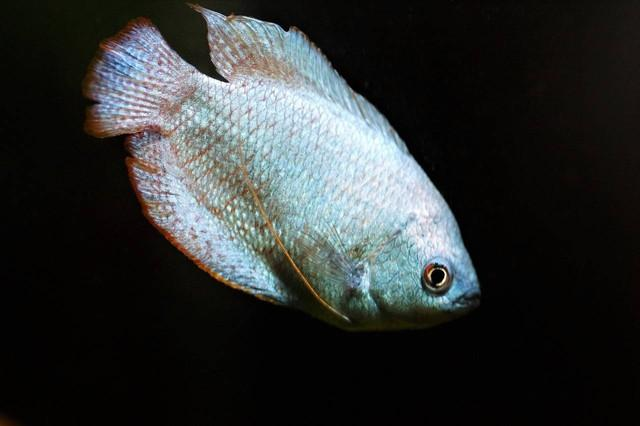Mulut: (408, 264, 510, 338)
Sirip Anal: (116, 114, 290, 310)
Sirip Dada: (281, 204, 381, 306)
Sirip Ekor: (56, 11, 200, 148)
Sirip Punggung: (188, 1, 418, 162)
